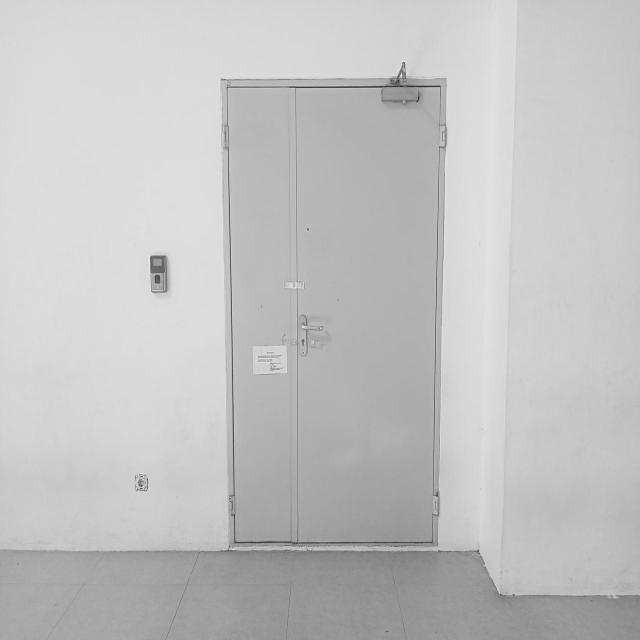door: (220, 80, 448, 546)
